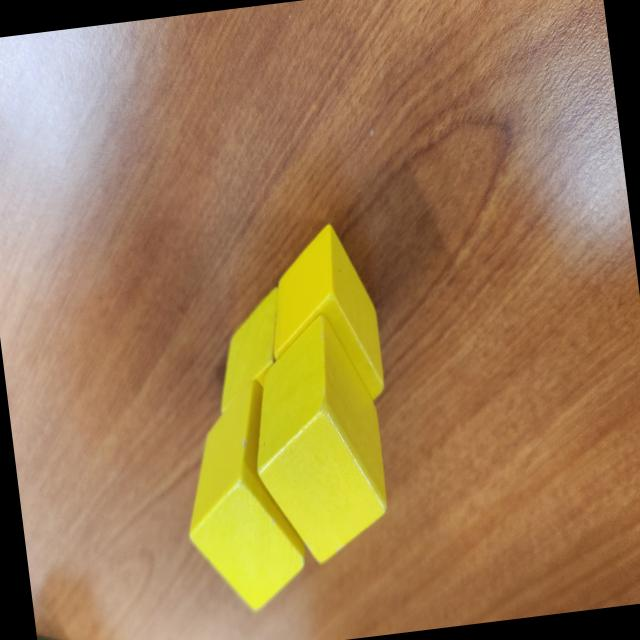yellow: (238, 306, 396, 571), (170, 374, 313, 620), (257, 218, 388, 413), (206, 287, 292, 416)
